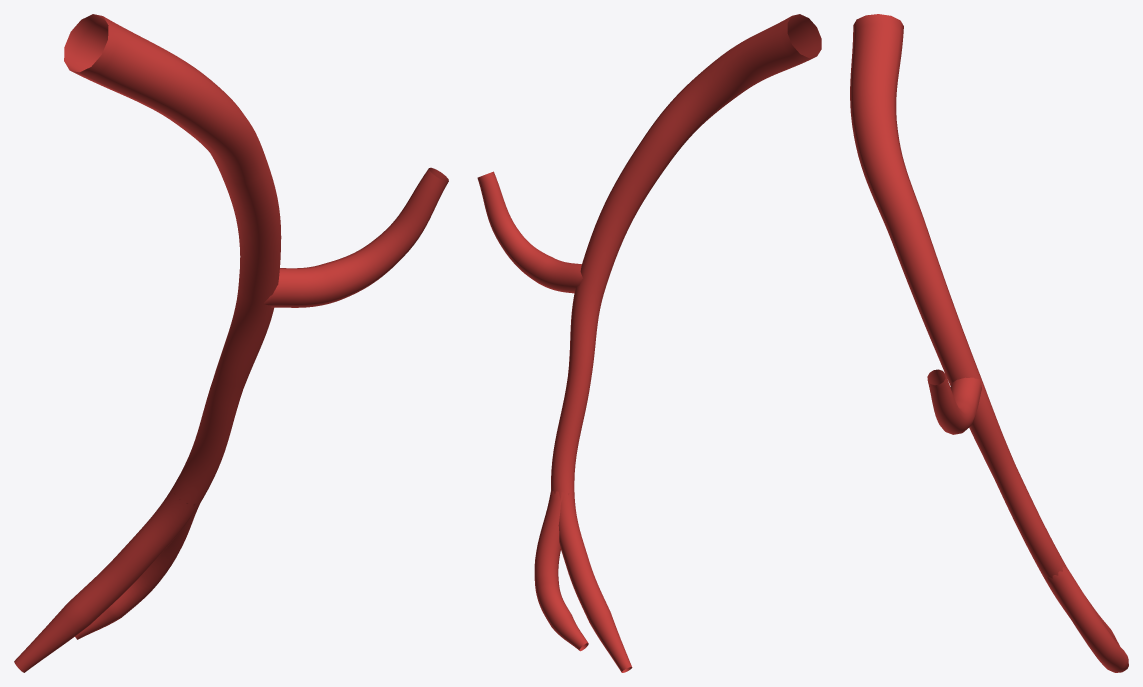
3 views of the same model, side by side, from view 1: azimuth 30°, elevation 25°; view 2: azimuth 150°, elevation 25°; view 3: azimuth 270°, elevation 25° (orthographic). The views are drawn at different scales.
Visible parts, largest first — view 1: 左肺上舌段动脉; view 2: 左肺上舌段动脉; view 3: 左肺上舌段动脉.
Boxes of the visible parts, x1,y1,x2,y2 form: 左肺上舌段动脉: (14, 14, 448, 672); 左肺上舌段动脉: (477, 14, 821, 672); 左肺上舌段动脉: (850, 14, 1128, 672).
Size of the model in its own units: 0.0882 by 0.1594 by 0.0648.
